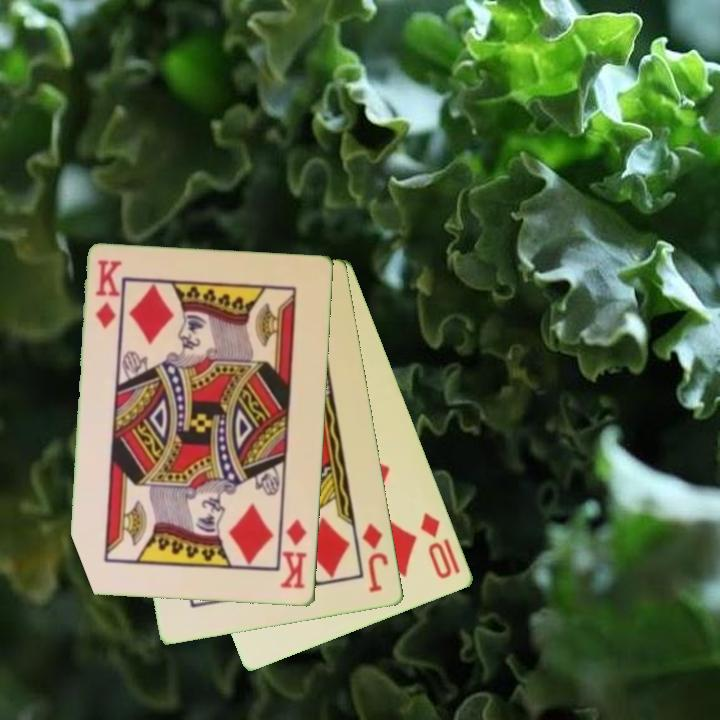10d: (417, 509, 456, 582)
Jd: (358, 519, 392, 595)
Kd: (277, 516, 310, 592), (92, 256, 124, 332)
